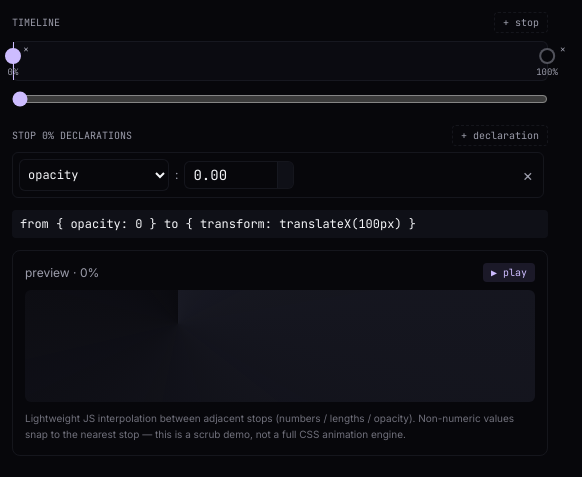
Test case: stop selection › the selected stop's declarations are revealed
Expected: the dropdown showing "opacity" is shown, left=19, top=159, right=169, bottom=191
Note: select the `to` stop → its transform declaration appears.
Click the button named "stop at 100%" at [547, 56], box left=539, top=48, right=555, bottom=64
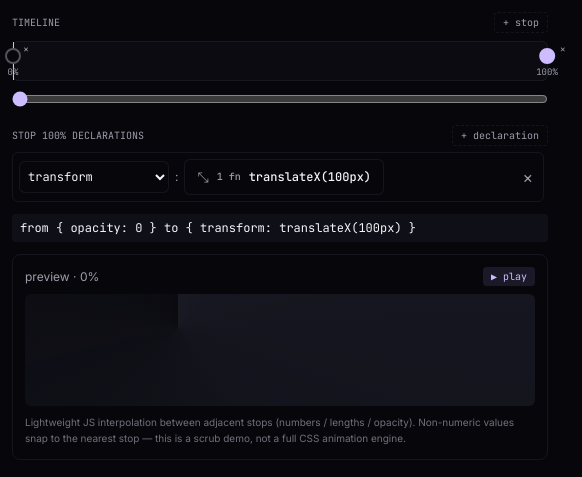
Expected: the dropdown showing "transform" is shown, left=19, top=161, right=169, bottom=193
